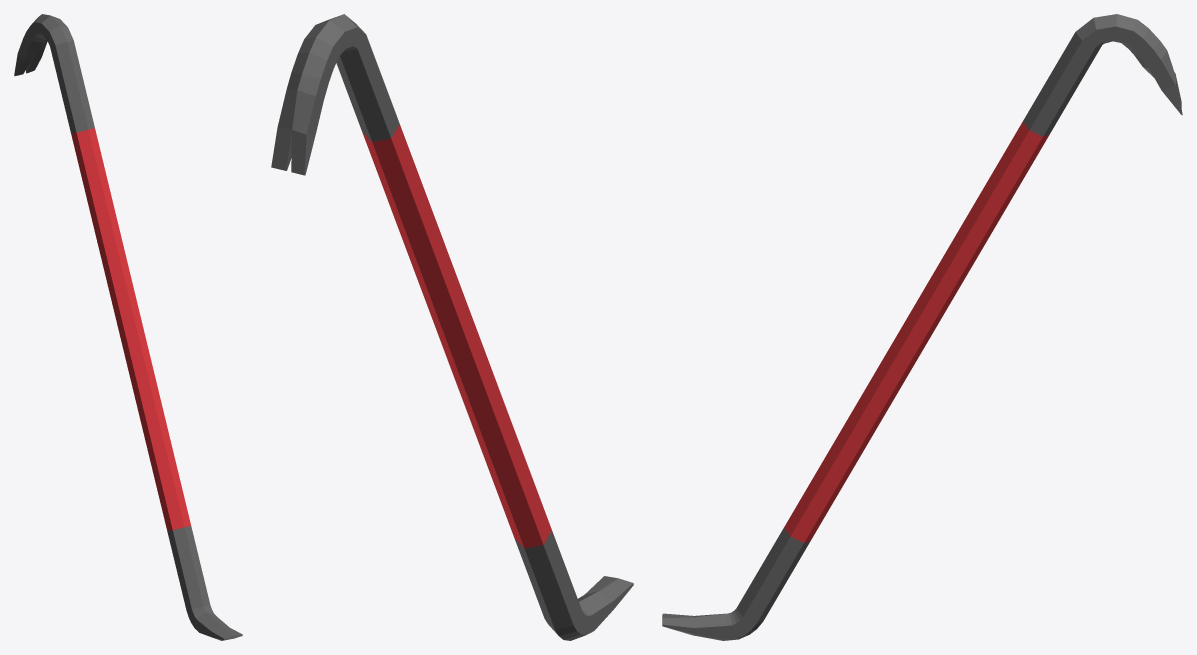
Rendered from mount.fbx.
3 views of the same model, side by side, from view 1: azimuth 30°, elevation 25°; view 2: azimuth 150°, elevation 25°; view 3: azimuth 270°, elevation 25° (orthographic). The views are drawn at different scales.
Visible parts, largest first — view 1: mount; view 2: mount; view 3: mount.
Part boxes in pixels (bbox=[...]): mount: bbox=[14, 14, 242, 640]; mount: bbox=[271, 14, 633, 640]; mount: bbox=[662, 14, 1182, 640].
Size of the model in its own units: 194 by 4524 by 3403.
